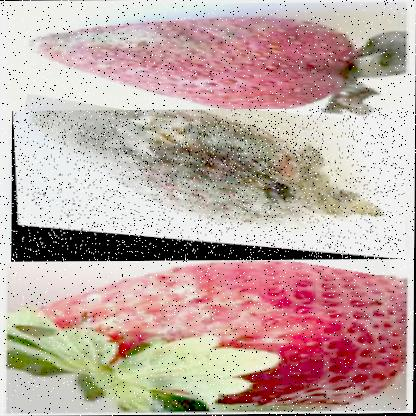strawberry_rotten: (10, 108, 406, 262)
